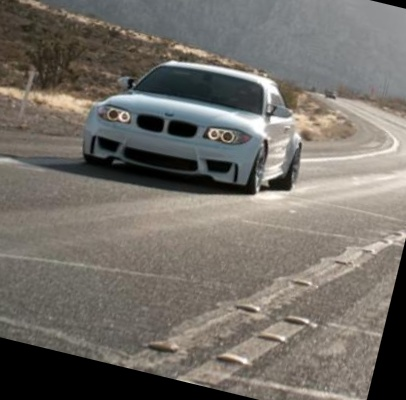car: (61, 15, 351, 230)
